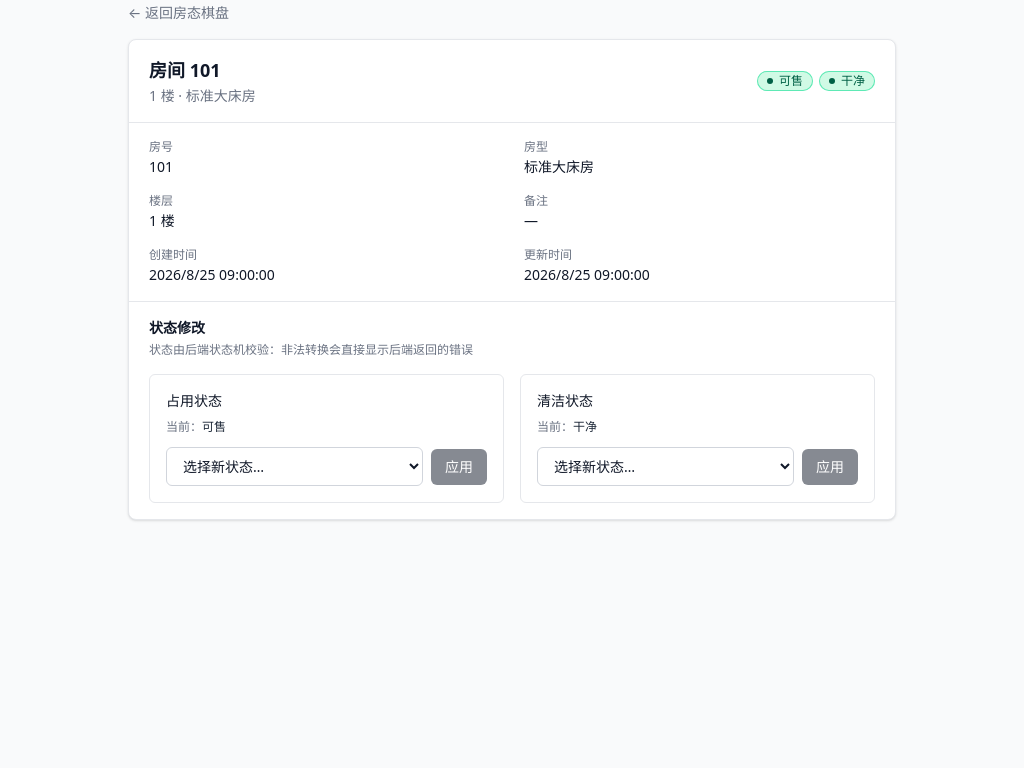
RoomDetailView 状态修改（真实后端状态机语义） › blocked / out_of_service 变更前弹确认框，确认后提交
The width and height of the screenshot is (1024, 768).
Expected: the heading "房间 101" is shown, [149, 58, 221, 82]
Select "锁房" in the dropdown named "修改占用状态" below "占用状态" at (294, 466), box [166, 447, 423, 486]
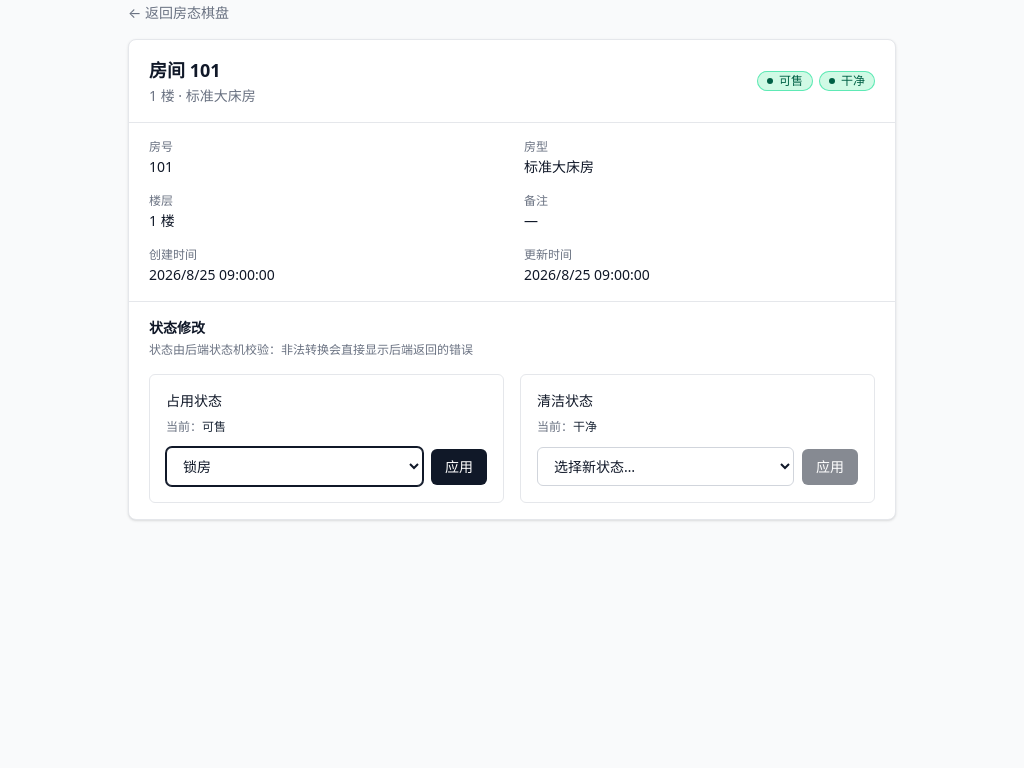
Click the button "应用" below "占用状态" at (459, 466), box [431, 448, 487, 484]
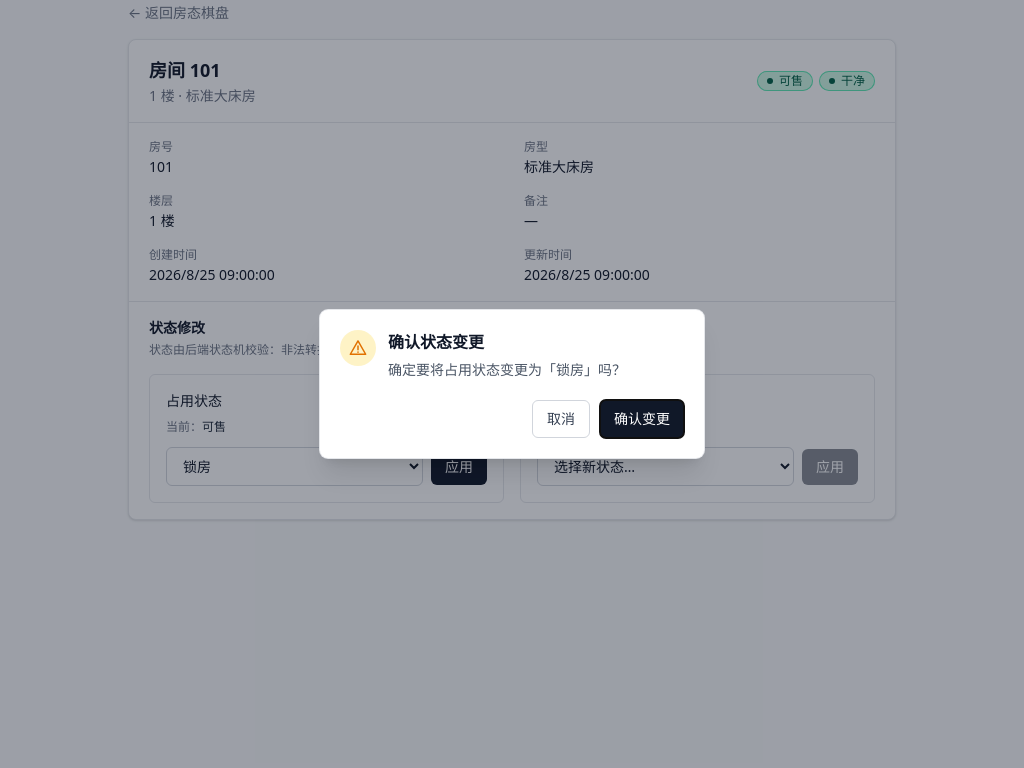
Now the dialog shows "确定要将占用状态变更为「锁房」吗？", box [388, 360, 626, 379]
// 取消 → 不提交
Click the button "取消" at (561, 419), box [532, 400, 590, 438]
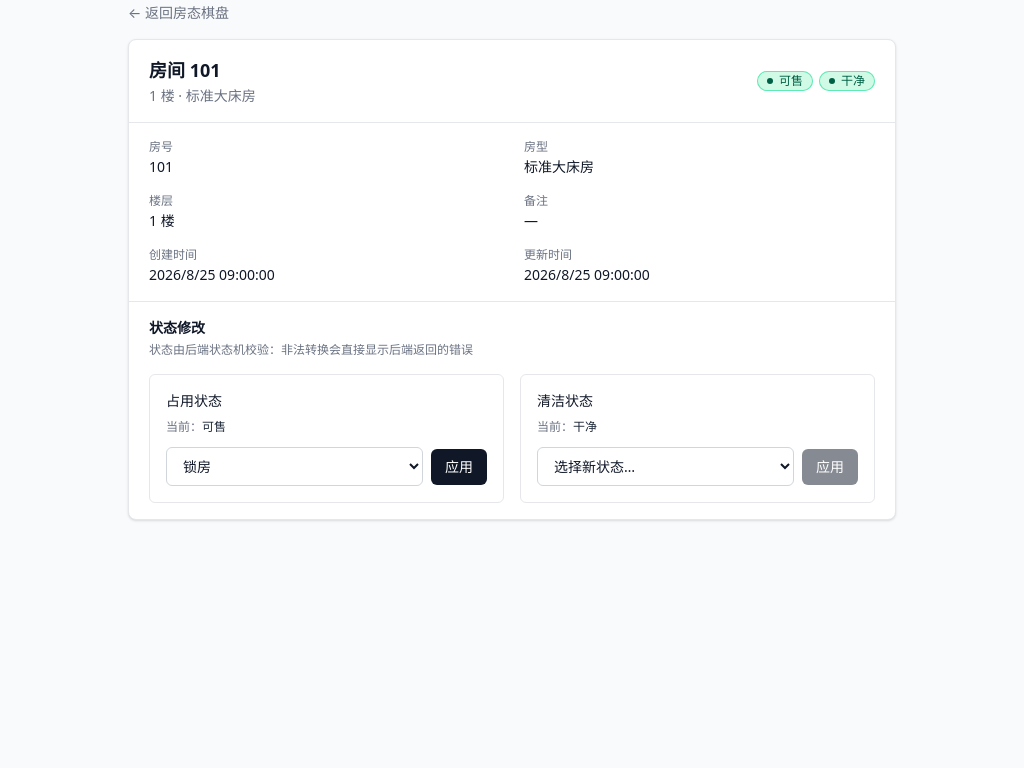
// 再次触发并确认 → 提交
Click the button "应用" below "占用状态" at (459, 466), box [431, 448, 487, 484]
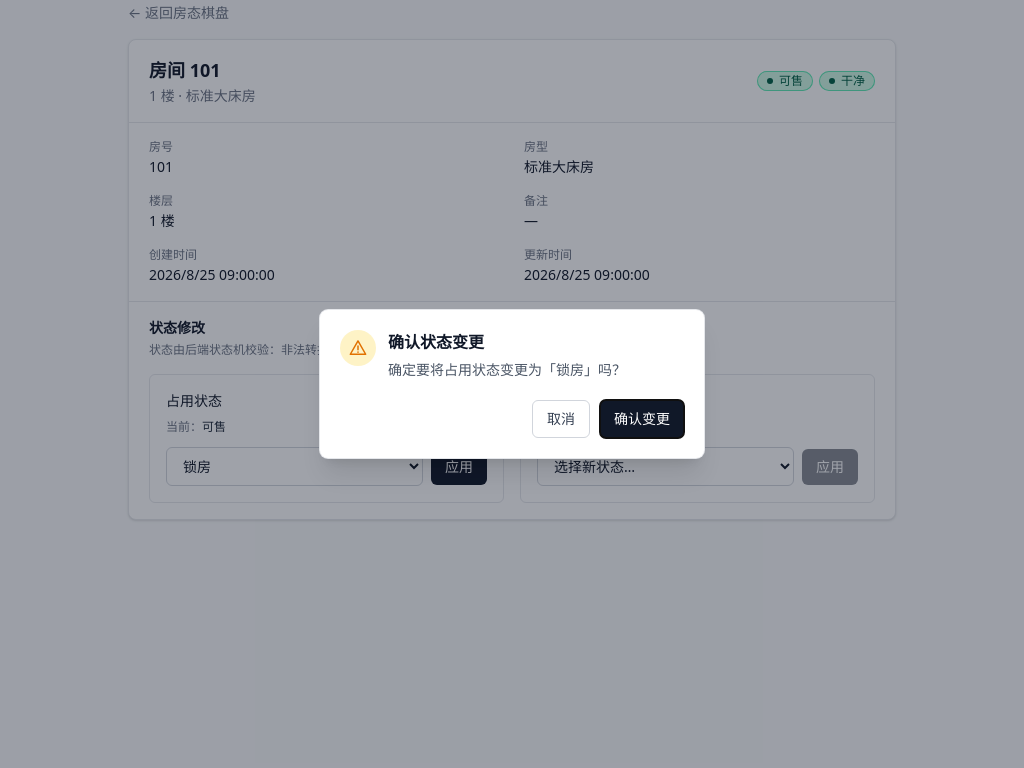
Click the button "确认变更" at (642, 419), box [600, 400, 684, 438]
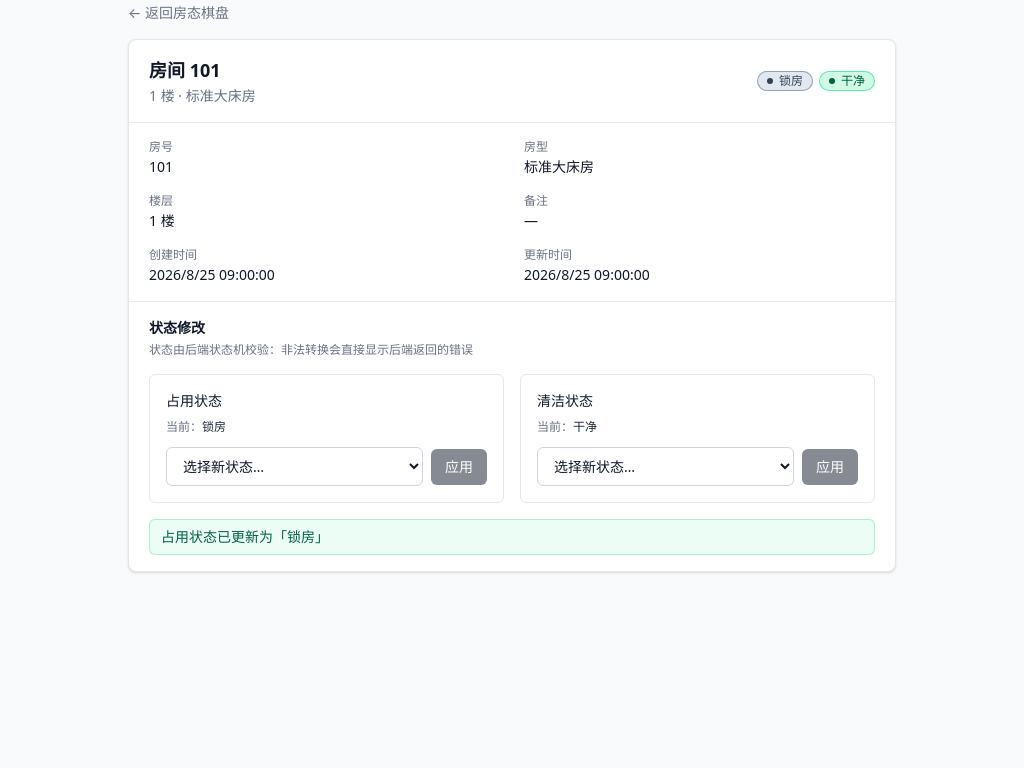
Now the text "锁房" is shown, box [757, 71, 813, 91]
